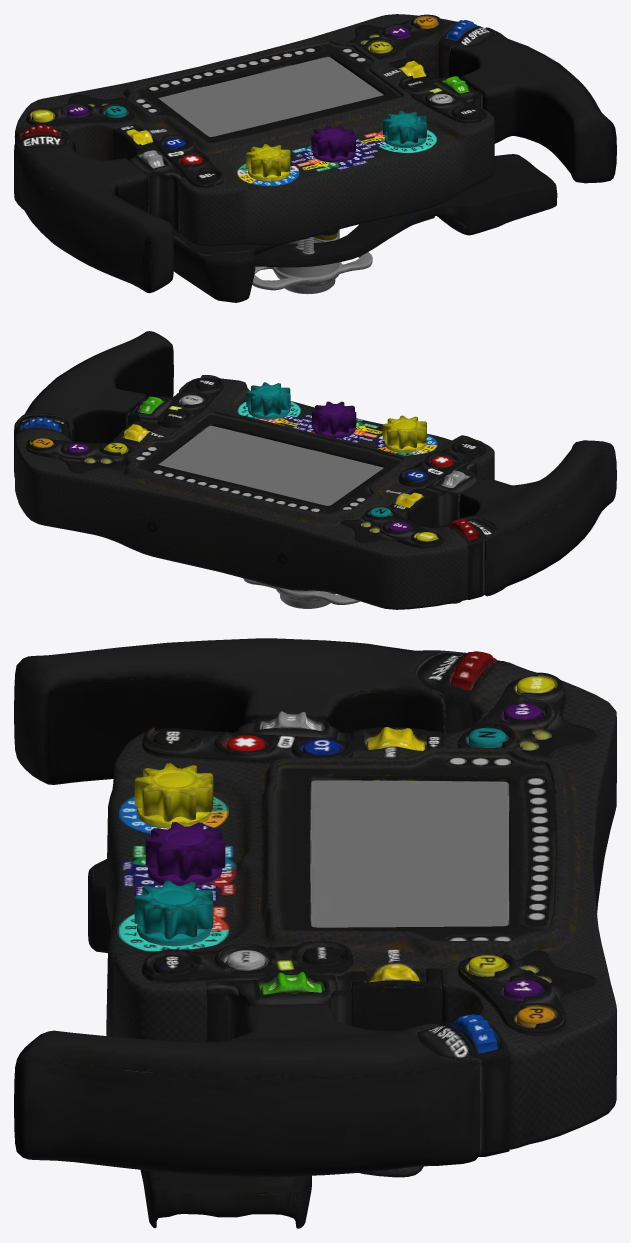
File: wheel.glb
3 renders of one model, top to bottom at view 1: azimuth 30°, elevation 25°; view 2: azimuth 150°, elevation 25°; view 3: azimuth 270°, elevation 25°, orthographic. The views are drawn at different scales.
Parts seen in each view (by area): view 1: body, grips, controls, paddles, screen, dials, hub; view 2: body, grips, controls, screen, dials, hub; view 3: grips, body, controls, screen, dials, paddles.
Boxes of the visible parts, x1=… form: body: x1=14, y1=14, x2=494, y2=246; grips: x1=14, y1=25, x2=616, y2=293; controls: x1=20, y1=14, x2=486, y2=233; paddles: x1=173, y1=154, x2=557, y2=302; screen: x1=158, y1=57, x2=383, y2=136; dials: x1=246, y1=110, x2=426, y2=181; hub: x1=252, y1=229, x2=372, y2=294; body: x1=14, y1=378, x2=494, y2=609; grips: x1=14, y1=331, x2=616, y2=599; controls: x1=20, y1=375, x2=486, y2=548; screen: x1=158, y1=425, x2=383, y2=505; dials: x1=246, y1=382, x2=426, y2=452; hub: x1=243, y1=578, x2=359, y2=608; grips: x1=14, y1=638, x2=509, y2=1176; body: x1=106, y1=662, x2=616, y2=1149; controls: x1=142, y1=651, x2=596, y2=1053; screen: x1=310, y1=780, x2=509, y2=927; dials: x1=134, y1=763, x2=225, y2=946; paddles: x1=88, y1=859, x2=423, y2=1228.
Size of the model in its own units: 0.0299 by 0.00935 by 0.0171.
Materials: 1 (1 with a texture image).
